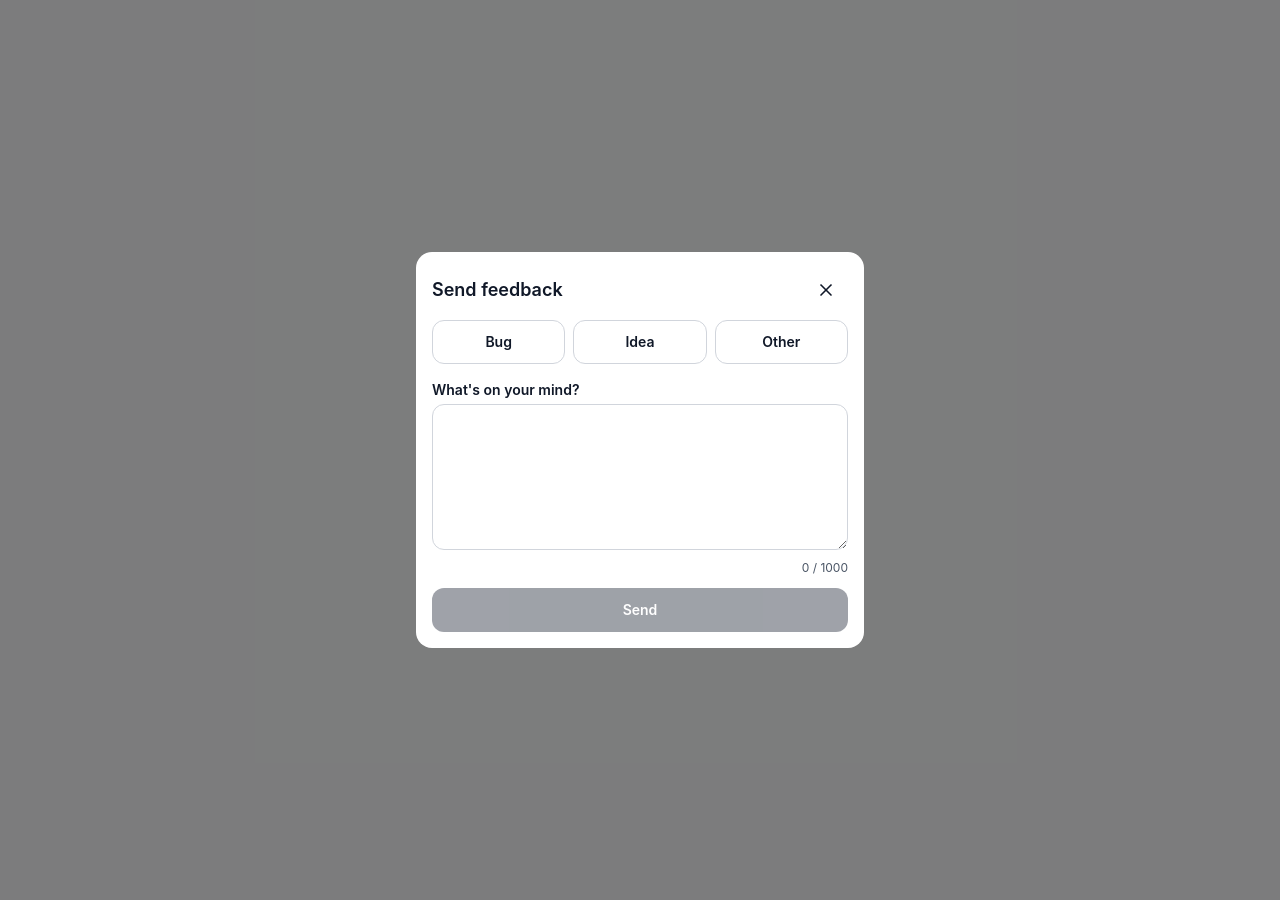
FeedbackDialog › says so when it did not send, and keeps the message
Click the button "Bug" at (499, 342), box 432,320 -> 565,364
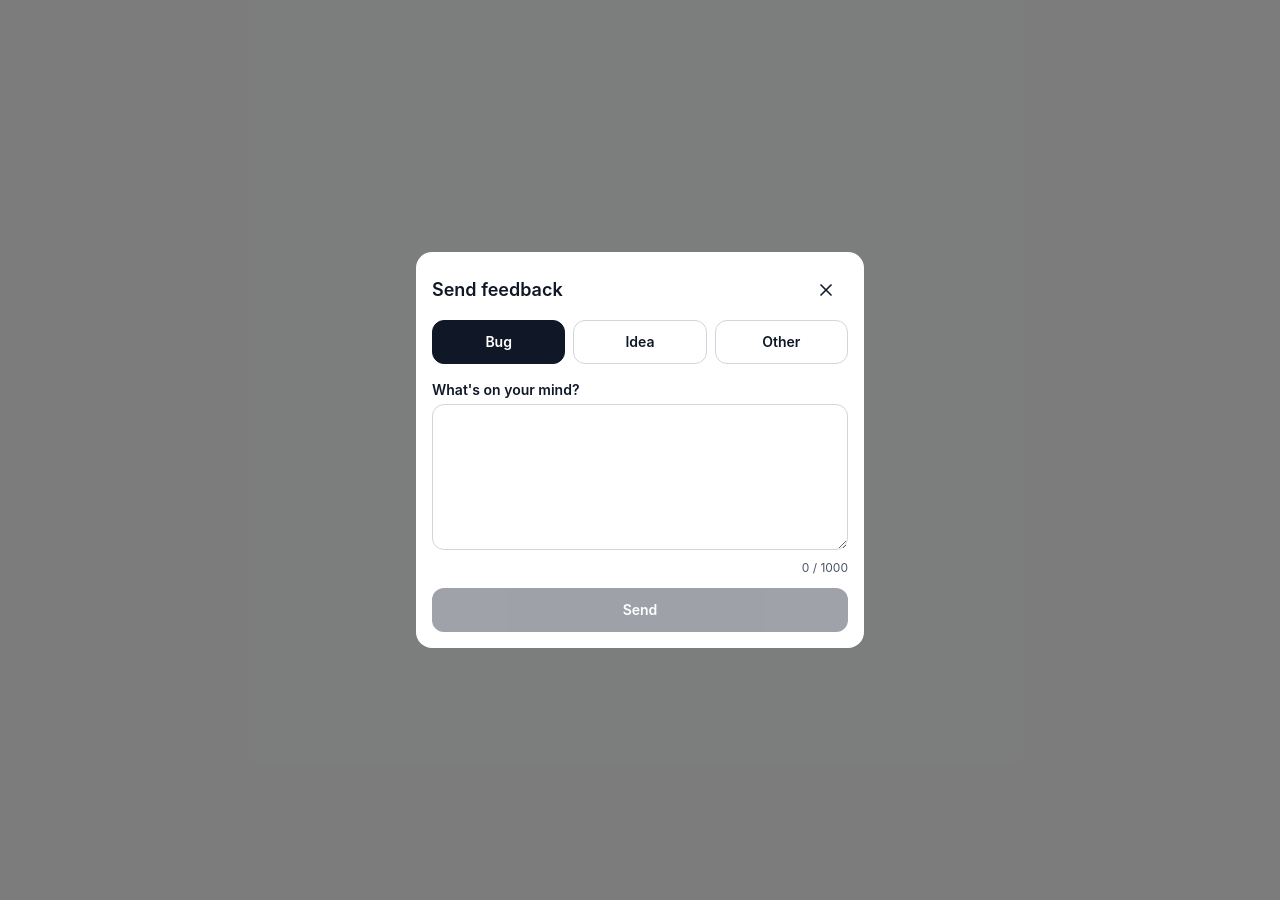
Type "The page froze" into the text box labelled "What's on your mind?" at (640, 477), box 432,404 -> 848,550
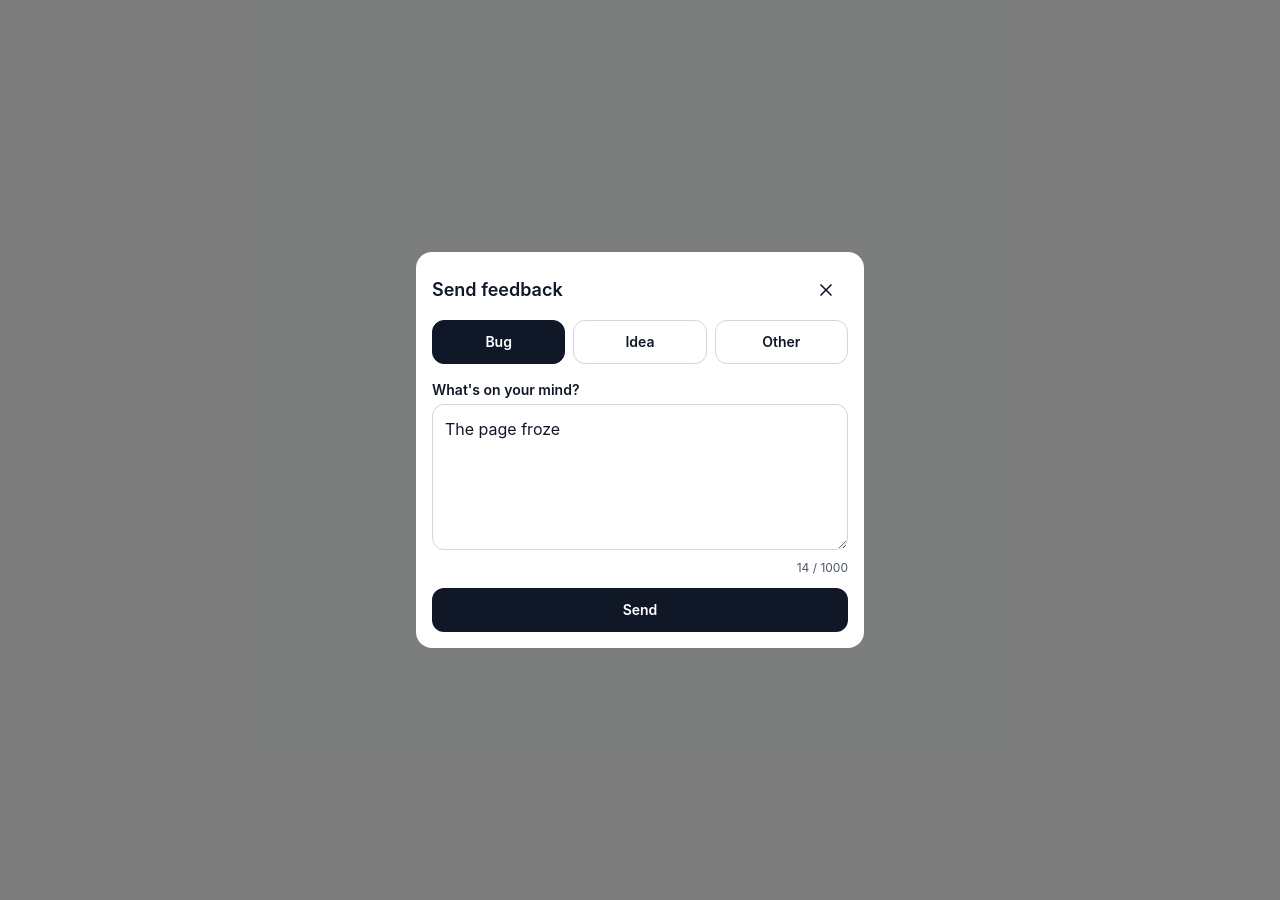
Click the button "Send" at (640, 610), box 432,588 -> 848,632
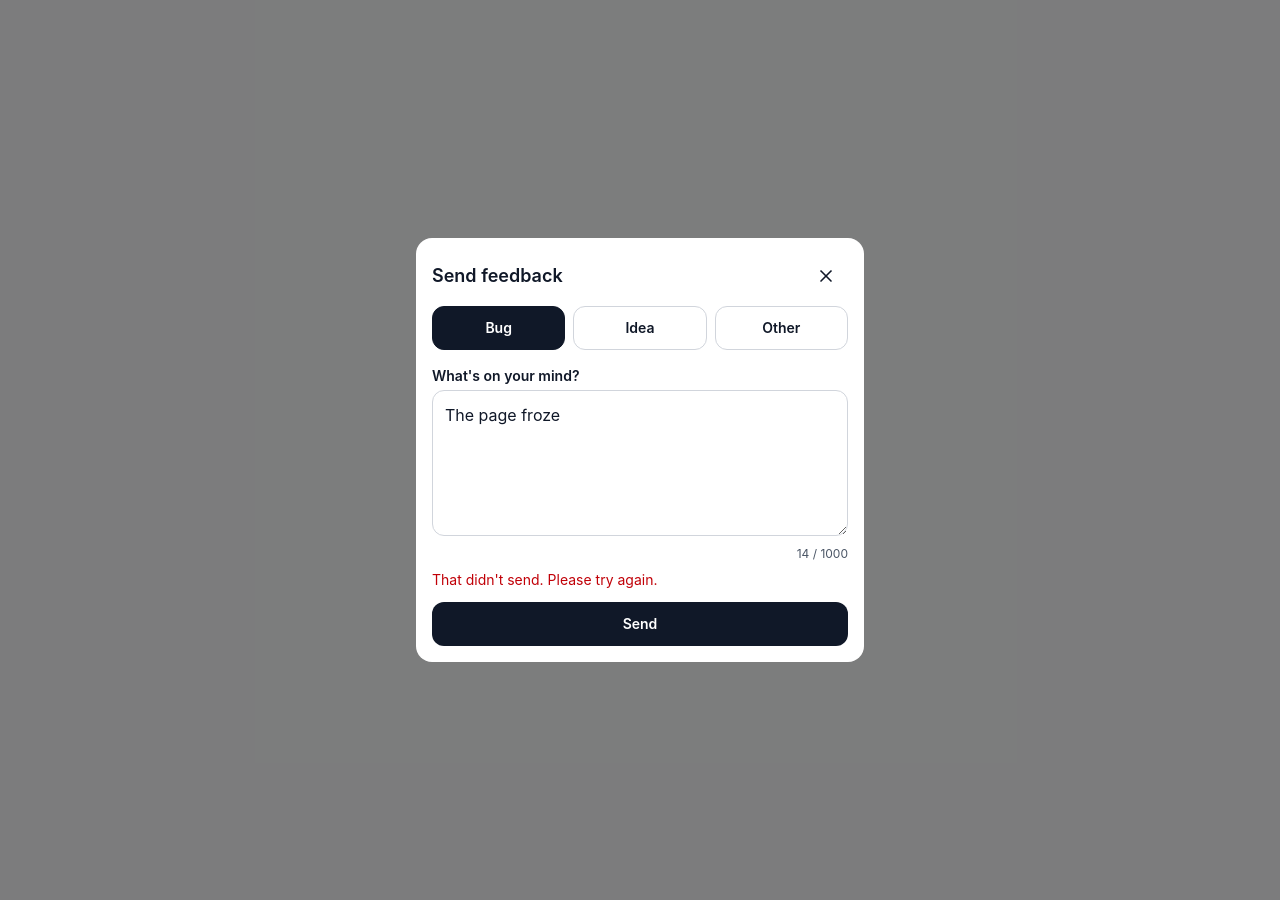
Result: the text "That didn't send. Please try again." is shown at 432,571 -> 658,588
